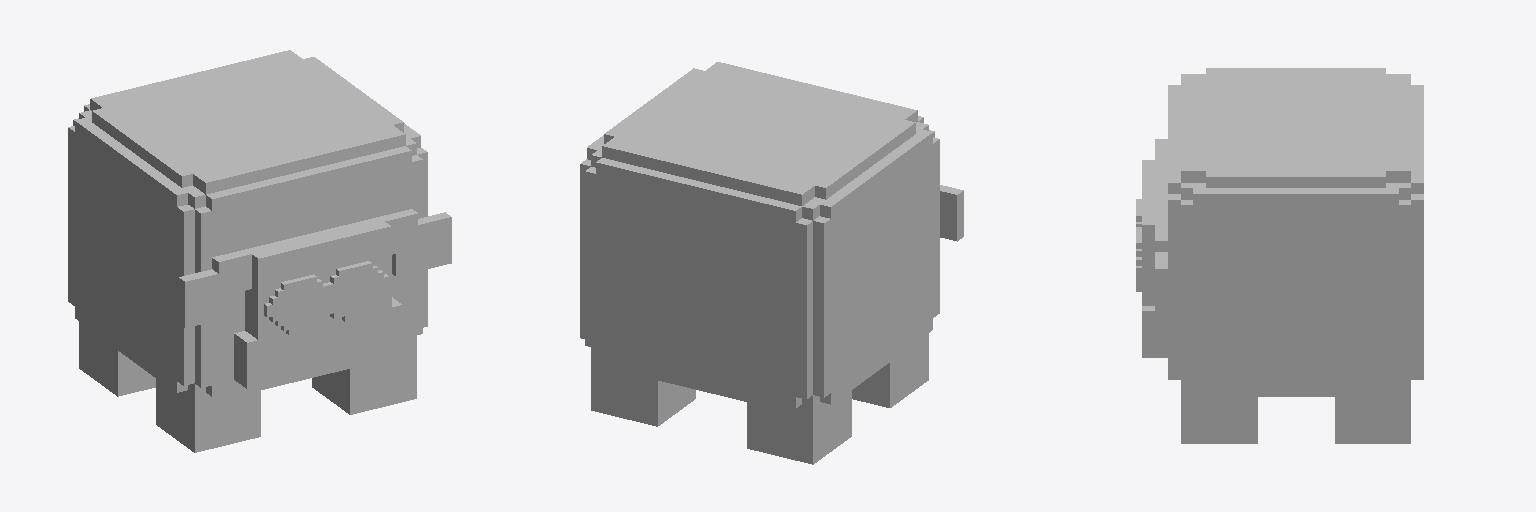
File: sheep 1.obj
3 views of the same model, side by side, from view 1: azimuth 30°, elevation 25°; view 2: azimuth 150°, elevation 25°; view 3: azimuth 270°, elevation 25° (orthographic).
Visible parts, largest first — view 1: object 1; view 2: object 1; view 3: object 1.
Boxes of the visible parts, <box> form: object 1: <box>68,50,451,452</box>; object 1: <box>580,62,963,464</box>; object 1: <box>1136,68,1423,443</box>.
Bounding box in the file's own units: 4.8 × 4.6 × 4.5.